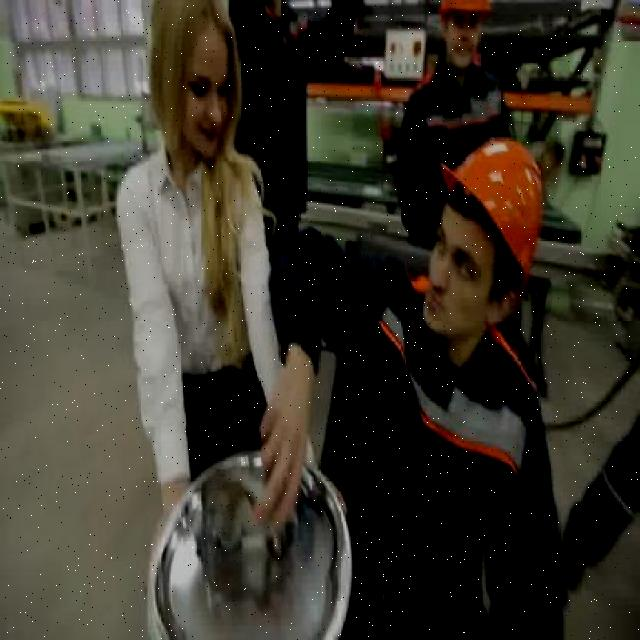Helmet: (435, 137, 543, 300)
Mask: (264, 207, 578, 638), (232, 0, 363, 211), (392, 56, 526, 219)
